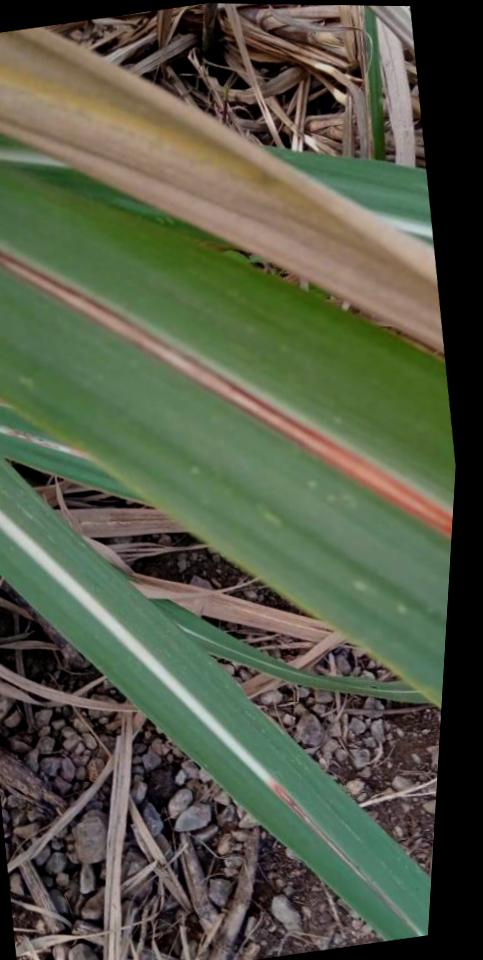RedRot: (0, 249, 453, 537), (270, 779, 378, 894)
